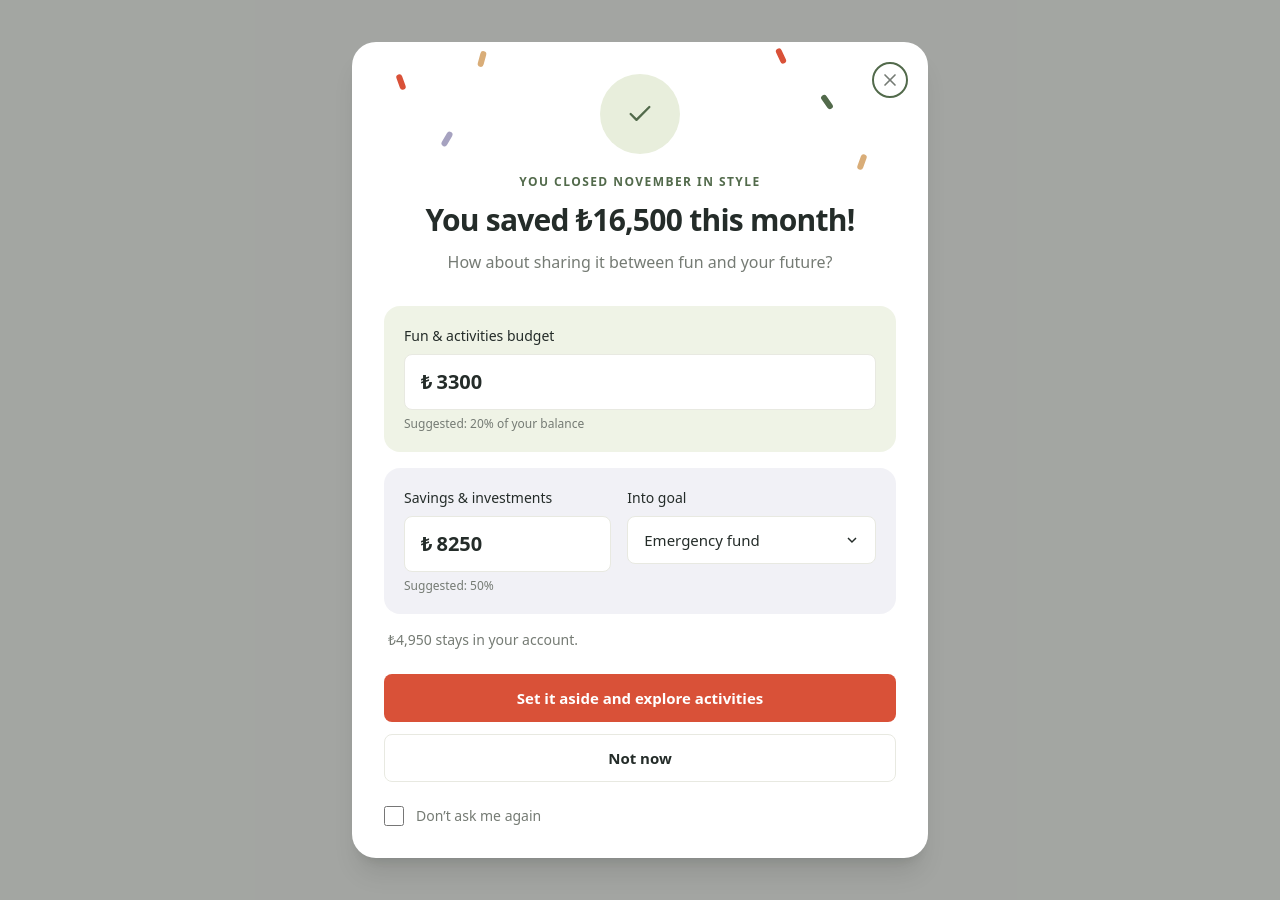
Scenario: FunBudgetPromptModal › blocks splits larger than the surplus
Replace the text in the number field labelled "Savings & investments" with "14000": (513, 544) [432,530,594,558]
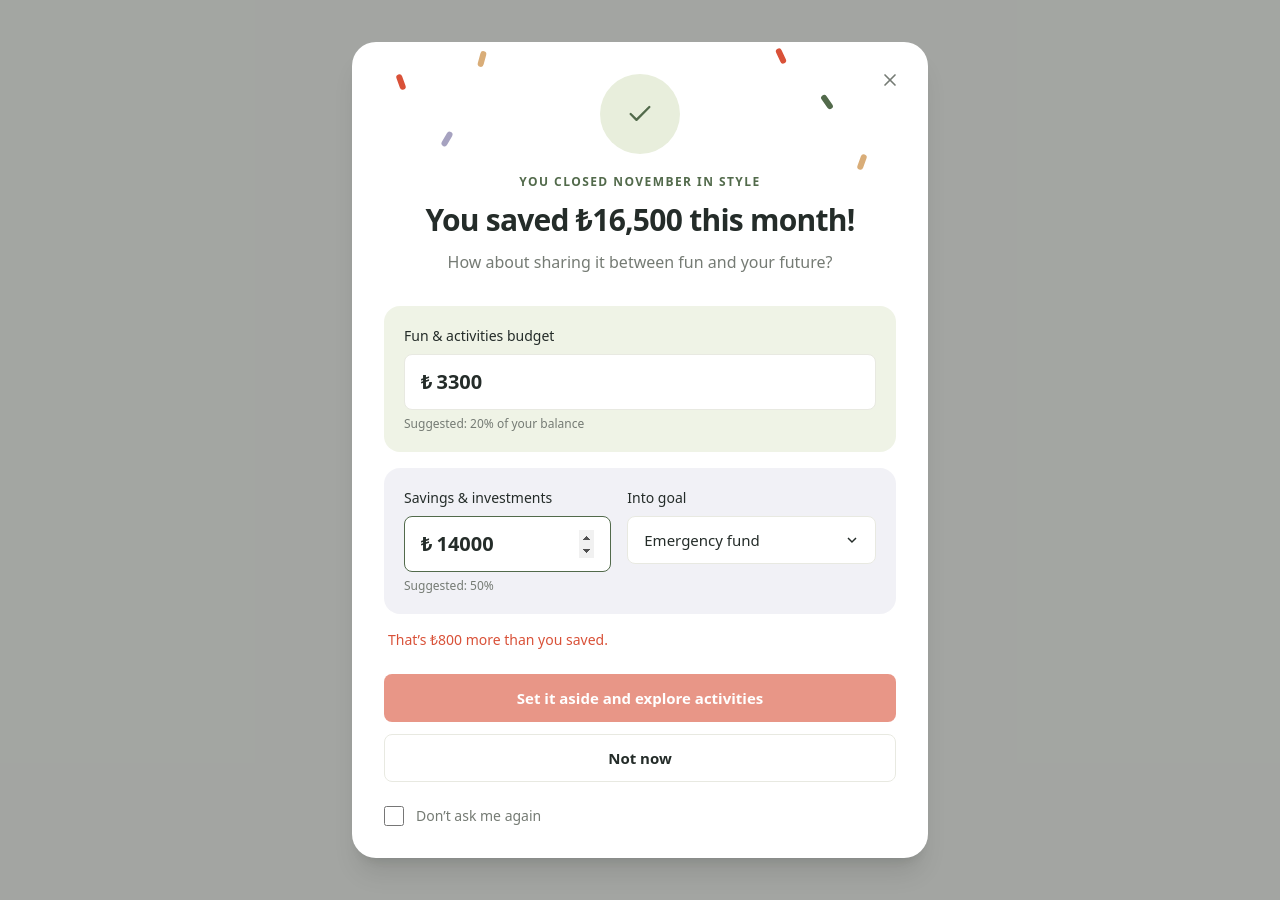
expect the text "That’s ₺800 more than you saved." is shown: met, box [388,630,608,649]
expect the button "Set it aside and explore activities" is disabled: met, box [384,674,896,722]
